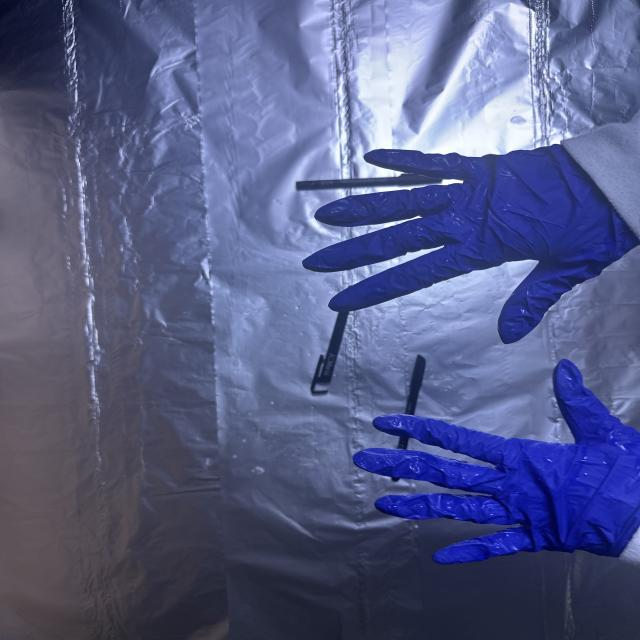gloves_contaminated: (303, 145, 638, 344), (353, 359, 640, 564)
